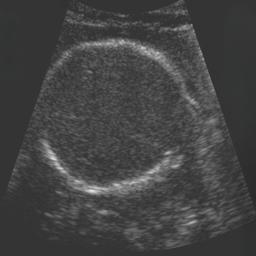abnormal: (32, 34, 207, 198)
